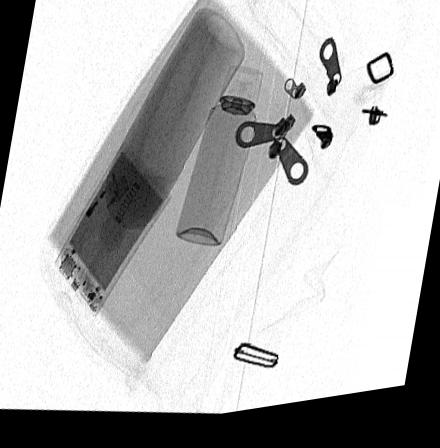Lighter: (64, 171, 130, 250)
Powerbank: (52, 144, 173, 319)
Sprayer: (174, 71, 263, 252)
